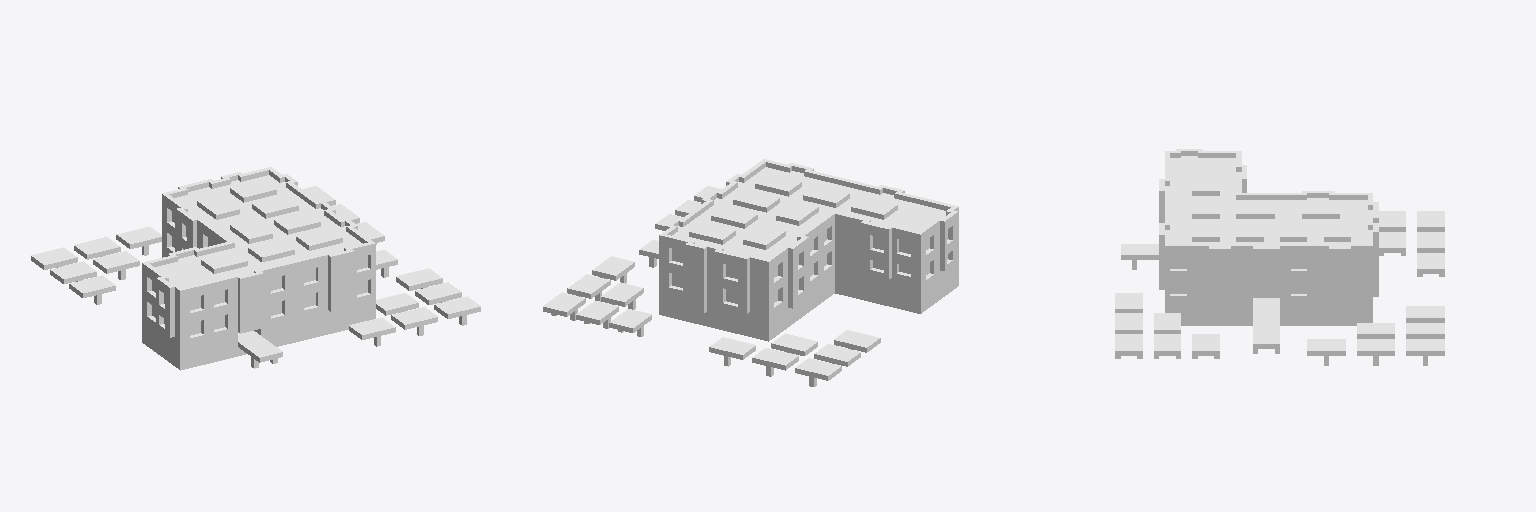
File: workshop_solarpanelv1.obj
The picture shows the model from 3 angles: view 1: azimuth 30°, elevation 25°; view 2: azimuth 150°, elevation 25°; view 3: azimuth 270°, elevation 25°; orthographic projection.
Parts seen in each view (by area): view 1: object 1; view 2: object 1; view 3: object 1.
Part boxes in pixels (x1,y1,x2,y2): object 1: (31, 167, 480, 370); object 1: (543, 159, 958, 386); object 1: (1115, 149, 1444, 365).
Bounding box in the file's own units: 6 × 1.6 × 6.